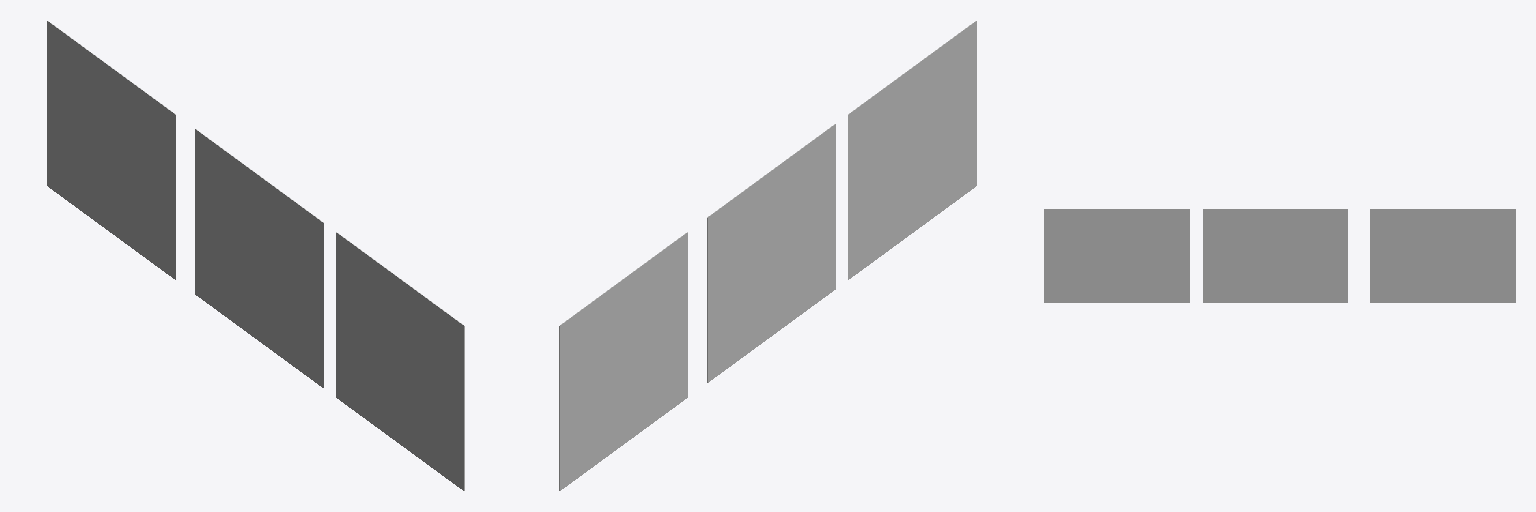
The robot description file, URDF, robot "Net_Collision":
<?xml version="1.0" encoding="utf-8"?>
<!-- This URDF was automatically created by SolidWorks to URDF Exporter! Originally created by [author] ([email redacted]) 
     Commit Version: 1.5.1-0-g916b5db  Build Version: 1.5.7152.31018
     For more information, please see http://wiki.ros.org/sw_urdf_exporter -->
<robot
  name="Net_Collision">
  <link
    name="base_link">
    <inertial>
      <origin
        xyz="0.0100000000000852 -5.52233333333337 1.25"
        rpy="0 0 0" />
      <mass
        value="0.267696" />
      <inertia
        ixx="0.3833495952"
        ixy="2.89454043611107E-16"
        ixz="-1.96538753903255E-19"
        iyy="0.1284963108"
        iyz="-7.21105903758074E-17"
        izz="0.254857746" />
    </inertial>
    <visual>
      <origin
        xyz="0 0 0"
        rpy="0 0 0" />
      <geometry>
        <mesh
          filename="package://Net_Collision/meshes/base_link.STL" />
      </geometry>
      <material
        name="">
        <color
          rgba="0.843137254901961 0.843137254901961 0.843137254901961 0.1" />
      </material>
    </visual>
    <collision>
      <origin
        xyz="0 0 0"
        rpy="0 0 0" />
      <geometry>
        <mesh
          filename="package://Net_Collision/meshes/base_link.STL" />
      </geometry>
    </collision>
  </link>
</robot>

--- Render facts (derived) ---
The picture shows the robot from 3 angles, left to right: view 1: azimuth 30°, elevation 25°; view 2: azimuth 150°, elevation 25°; view 3: azimuth 270°, elevation 25°; orthographic projection.
Robot: Net_Collision — 1 links, 0 joints (none); root link base_link; default pose: every joint at zero.
Visible links, largest first — view 1: base_link; view 2: base_link; view 3: base_link.
Link boxes in pixels (bbox=[...]): base_link: bbox=[47, 21, 464, 490]; base_link: bbox=[559, 21, 976, 490]; base_link: bbox=[1044, 209, 1515, 302].
Bounding box of the posed robot: 0.01 × 10.97 × 2.4 m (x, y, z).
Meshes: 1 distinct files referenced, 1 mesh visuals loaded (1 binary STL).